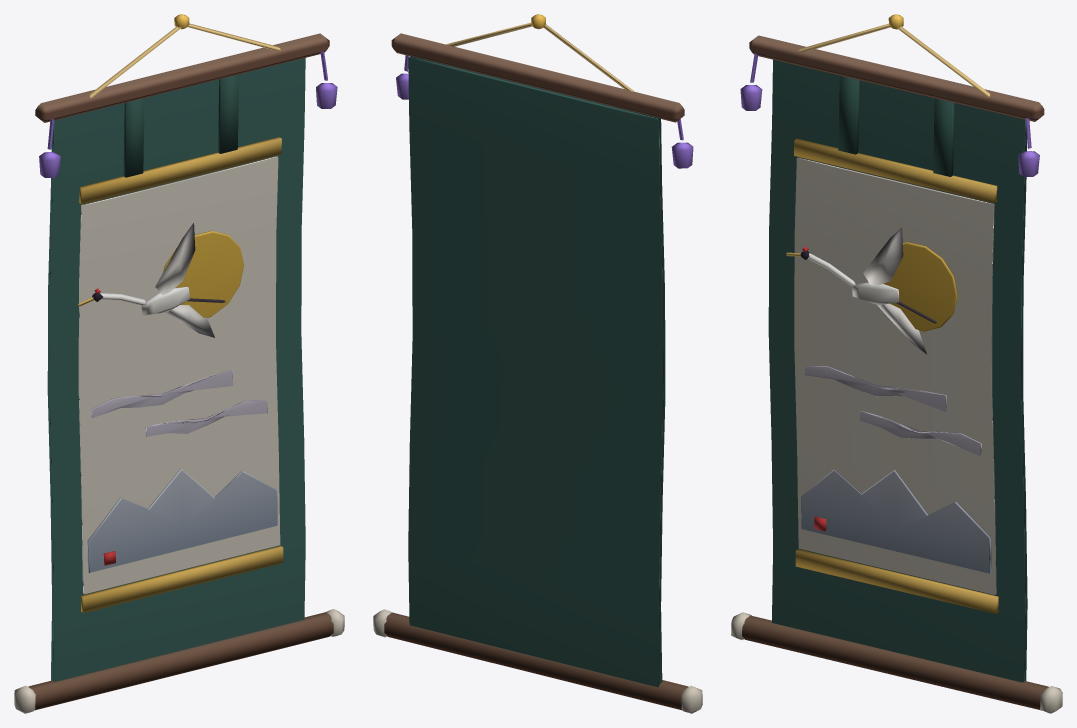
Rendered from furn-hangingScroll.glb.
3 renders of one model, left to right at view 1: azimuth 30°, elevation 25°; view 2: azimuth 150°, elevation 25°; view 3: azimuth 330°, elevation 25°, orthographic.
Visible parts, largest first — view 1: furn-hangingScroll; view 2: furn-hangingScroll; view 3: furn-hangingScroll.
Part boxes in pixels (x1,y1,x2,y2): furn-hangingScroll: [14, 14, 344, 713]; furn-hangingScroll: [373, 14, 702, 713]; furn-hangingScroll: [731, 14, 1062, 713].
Bounding box in the file's own units: 0.4829 × 0.939 × 0.0509.
